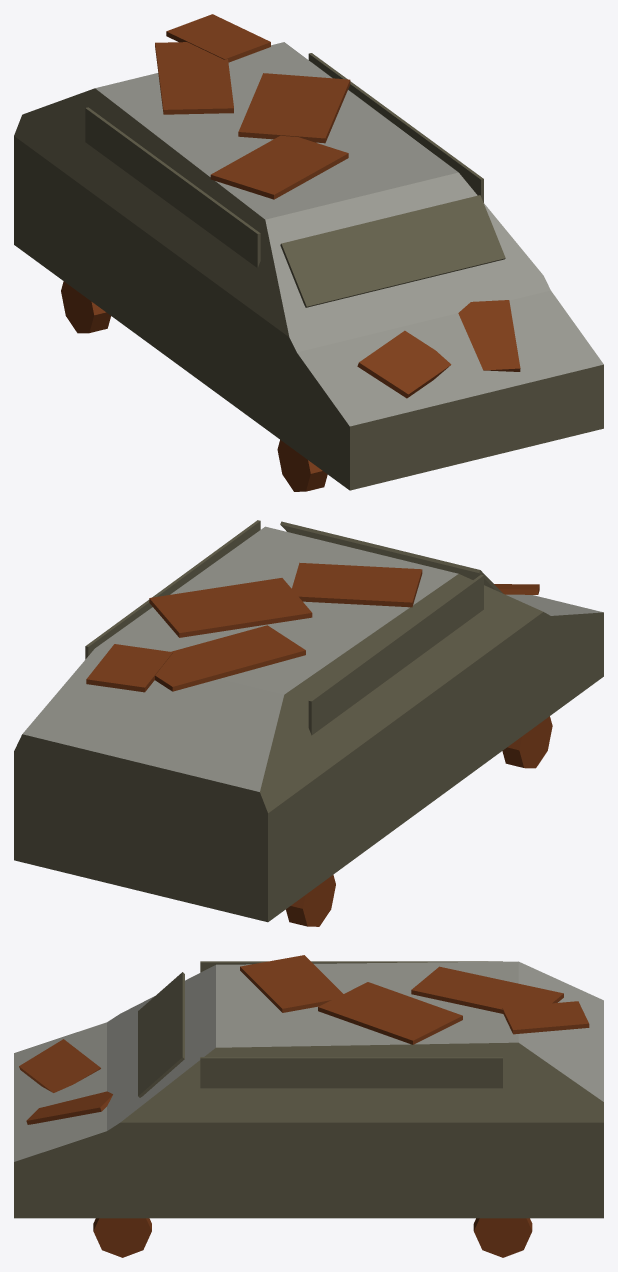
Rendered from SM_CocheCivil_Utilitario_v4_LOD0.fbx.
The picture shows the model from 3 angles, top to bottom: view 1: azimuth 30°, elevation 25°; view 2: azimuth 150°, elevation 25°; view 3: azimuth 270°, elevation 25°; orthographic projection. The views are drawn at different scales.
Visible parts, largest first — view 1: SM_coche_civil_v4_LOD0; view 2: SM_coche_civil_v4_LOD0; view 3: SM_coche_civil_v4_LOD0.
Boxes of the visible parts, bbox=[...] form: SM_coche_civil_v4_LOD0: bbox=[14, 14, 603, 491]; SM_coche_civil_v4_LOD0: bbox=[14, 520, 603, 926]; SM_coche_civil_v4_LOD0: bbox=[14, 955, 603, 1257].
Size of the model in its own units: 1.66 by 1.49 by 3.8.
